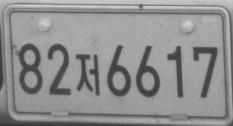1: (165, 45, 189, 97)
2: (46, 42, 71, 95)
6: (135, 44, 161, 97), (106, 44, 131, 96)
7: (191, 45, 218, 98)
8: (18, 42, 43, 95)
저: (75, 53, 100, 96)
